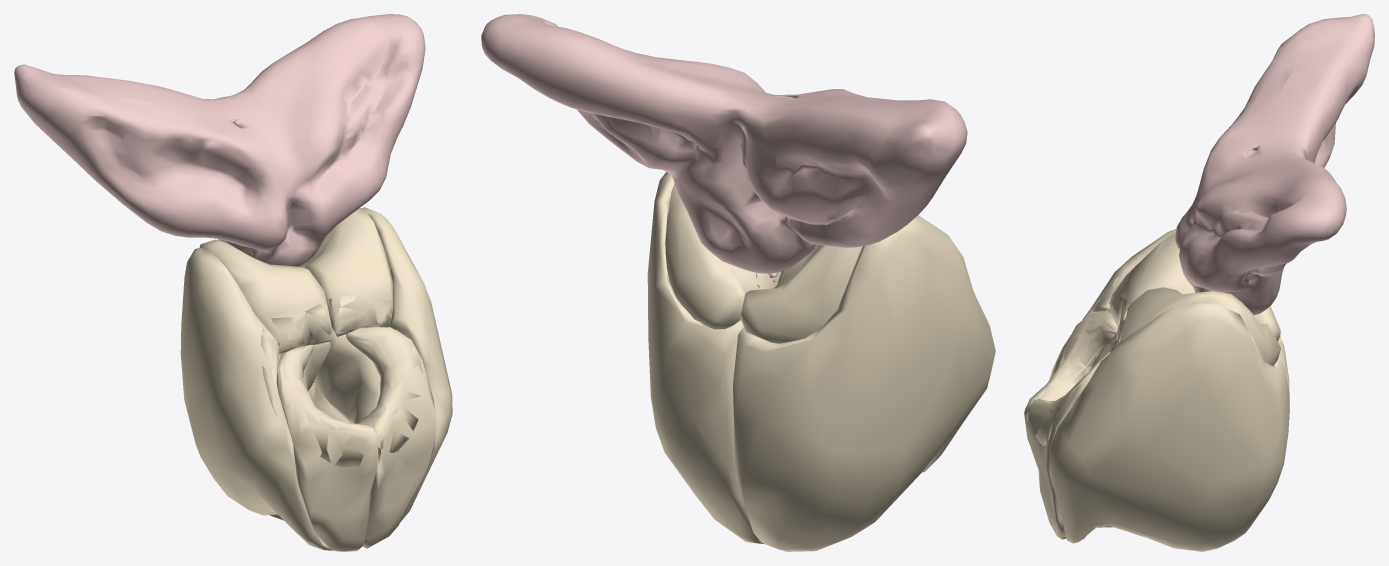
Rendered from 3d-vh-m-prostate_lod_20.glb.
3 renders of one model, left to right at view 1: azimuth 30°, elevation 25°; view 2: azimuth 150°, elevation 25°; view 3: azimuth 270°, elevation 25°, orthographic. The views are drawn at different scales.
Visible parts, largest first — view 1: VH_M_seminal_vesicle, VH_M_peripheral_zone_of_prostate_R, VH_M_anterior_fibromuscular_stroma_R, VH_M_anterior_fibromuscular_stroma_L, VH_M_base_of_prostate, VH_M_central_zone_of_prostate_L, VH_M_peripheral_zone_of_prostate_L, VH_M_central_zone_of_prostate_R, VH_M_transition_zone__of_prostate_L, VH_M_transition_zone_of_prostate_R; view 2: VH_M_seminal_vesicle, VH_M_peripheral_zone_of_prostate_R, VH_M_peripheral_zone_of_prostate_L, VH_M_central_zone_of_prostate_R, VH_M_central_zone_of_prostate_L; view 3: VH_M_peripheral_zone_of_prostate_L, VH_M_seminal_vesicle, VH_M_central_zone_of_prostate_L, VH_M_central_zone_of_prostate_R, VH_M_base_of_prostate, VH_M_anterior_fibromuscular_stroma_L, VH_M_anterior_fibromuscular_stroma_R, VH_M_peripheral_zone_of_prostate_R.
Part boxes in pixels (x1,y1,x2,y2): VH_M_seminal_vesicle: [14, 14, 425, 266]; VH_M_peripheral_zone_of_prostate_R: [180, 247, 333, 550]; VH_M_anterior_fibromuscular_stroma_R: [276, 345, 379, 551]; VH_M_anterior_fibromuscular_stroma_L: [346, 327, 436, 548]; VH_M_base_of_prostate: [261, 294, 427, 466]; VH_M_central_zone_of_prostate_L: [300, 208, 393, 382]; VH_M_peripheral_zone_of_prostate_L: [308, 207, 452, 521]; VH_M_central_zone_of_prostate_R: [199, 239, 332, 354]; VH_M_transition_zone__of_prostate_L: [314, 327, 380, 423]; VH_M_transition_zone_of_prostate_R: [278, 341, 330, 391]; VH_M_seminal_vesicle: [481, 14, 967, 273]; VH_M_peripheral_zone_of_prostate_R: [733, 215, 995, 551]; VH_M_peripheral_zone_of_prostate_L: [647, 172, 763, 543]; VH_M_central_zone_of_prostate_R: [740, 244, 862, 343]; VH_M_central_zone_of_prostate_L: [665, 184, 781, 329]; VH_M_peripheral_zone_of_prostate_L: [1049, 301, 1289, 551]; VH_M_seminal_vesicle: [1175, 14, 1374, 315]; VH_M_central_zone_of_prostate_L: [1110, 287, 1280, 365]; VH_M_central_zone_of_prostate_R: [1109, 232, 1280, 341]; VH_M_base_of_prostate: [1025, 277, 1129, 446]; VH_M_anterior_fibromuscular_stroma_L: [1026, 351, 1109, 539]; VH_M_anterior_fibromuscular_stroma_R: [1024, 312, 1117, 442]; VH_M_peripheral_zone_of_prostate_R: [1056, 228, 1289, 390].
Bounding box in the file's own units: 0.0515 × 0.0553 × 0.0405.
